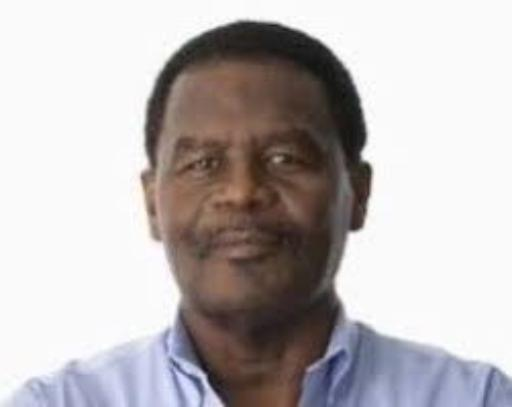left_eye: (261, 151, 308, 171)
left_lip_corner: (269, 235, 291, 254)
right_eye: (179, 157, 226, 178)
right_lip_corner: (204, 236, 225, 256)
